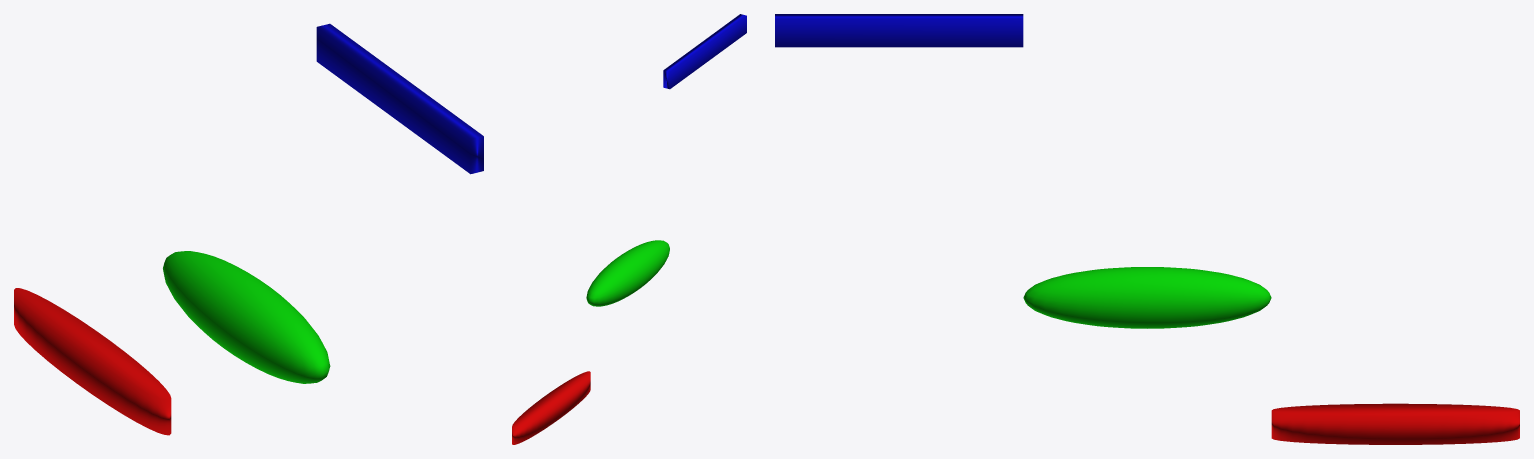
Rendered from demo2.dae.
3 views of the same model, side by side, from view 1: azimuth 30°, elevation 25°; view 2: azimuth 150°, elevation 25°; view 3: azimuth 270°, elevation 25° (orthographic). The views are drawn at different scales.
Visible parts, largest first — view 1: Segment2, Segment1, Segment3; view 2: Segment2, Segment1, Segment3; view 3: Segment2, Segment1, Segment3.
Boxes of the visible parts, <box> form: Segment2: <box>163,251,330,383</box>; Segment1: <box>14,288,171,435</box>; Segment3: <box>316,23,483,174</box>; Segment2: <box>586,240,669,306</box>; Segment1: <box>512,371,590,444</box>; Segment3: <box>663,14,746,89</box>; Segment2: <box>1023,267,1271,328</box>; Segment1: <box>1271,403,1519,444</box>; Segment3: <box>775,14,1023,47</box>.
Bounding box in the file's own units: 0.5 × 6 × 3.75.
